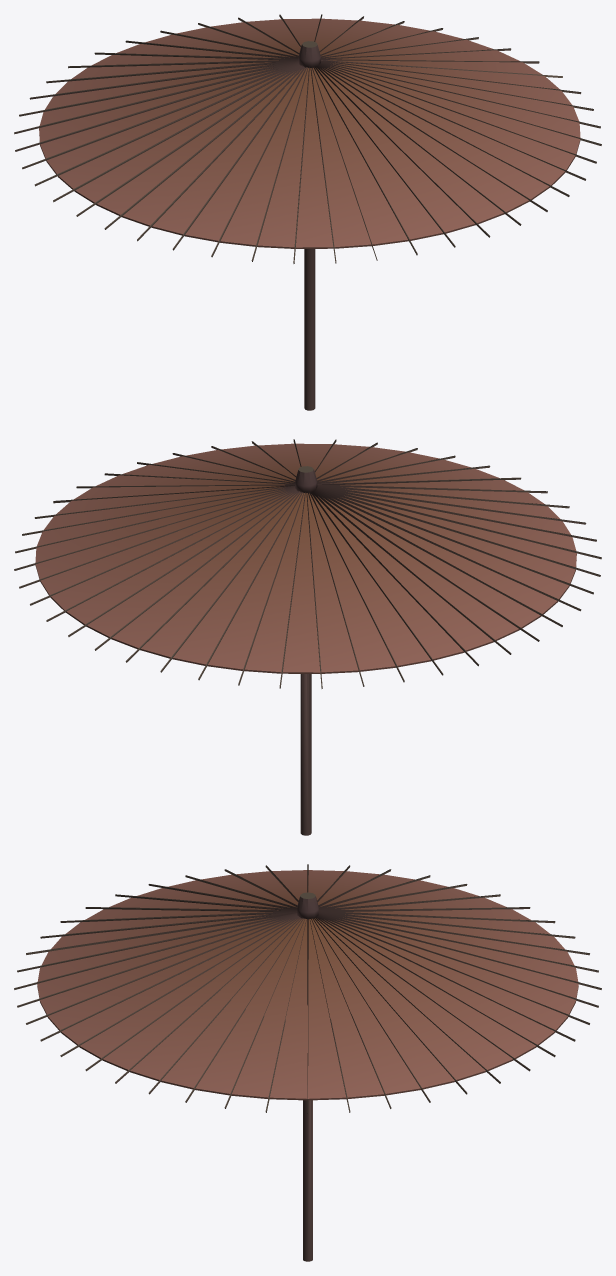
The picture shows the model from 3 angles, top to bottom: view 1: azimuth 30°, elevation 25°; view 2: azimuth 150°, elevation 25°; view 3: azimuth 270°, elevation 25°; orthographic projection.
Visible parts, largest first — view 1: Parasol_VFly; view 2: Parasol_VFly; view 3: Parasol_VFly.
Boxes of the visible parts, bbox=[...] form: Parasol_VFly: bbox=[14, 14, 601, 410]; Parasol_VFly: bbox=[14, 439, 601, 835]; Parasol_VFly: bbox=[14, 864, 601, 1261].
Size of the model in its own units: 0.5 by 0.3418 by 0.4999.
